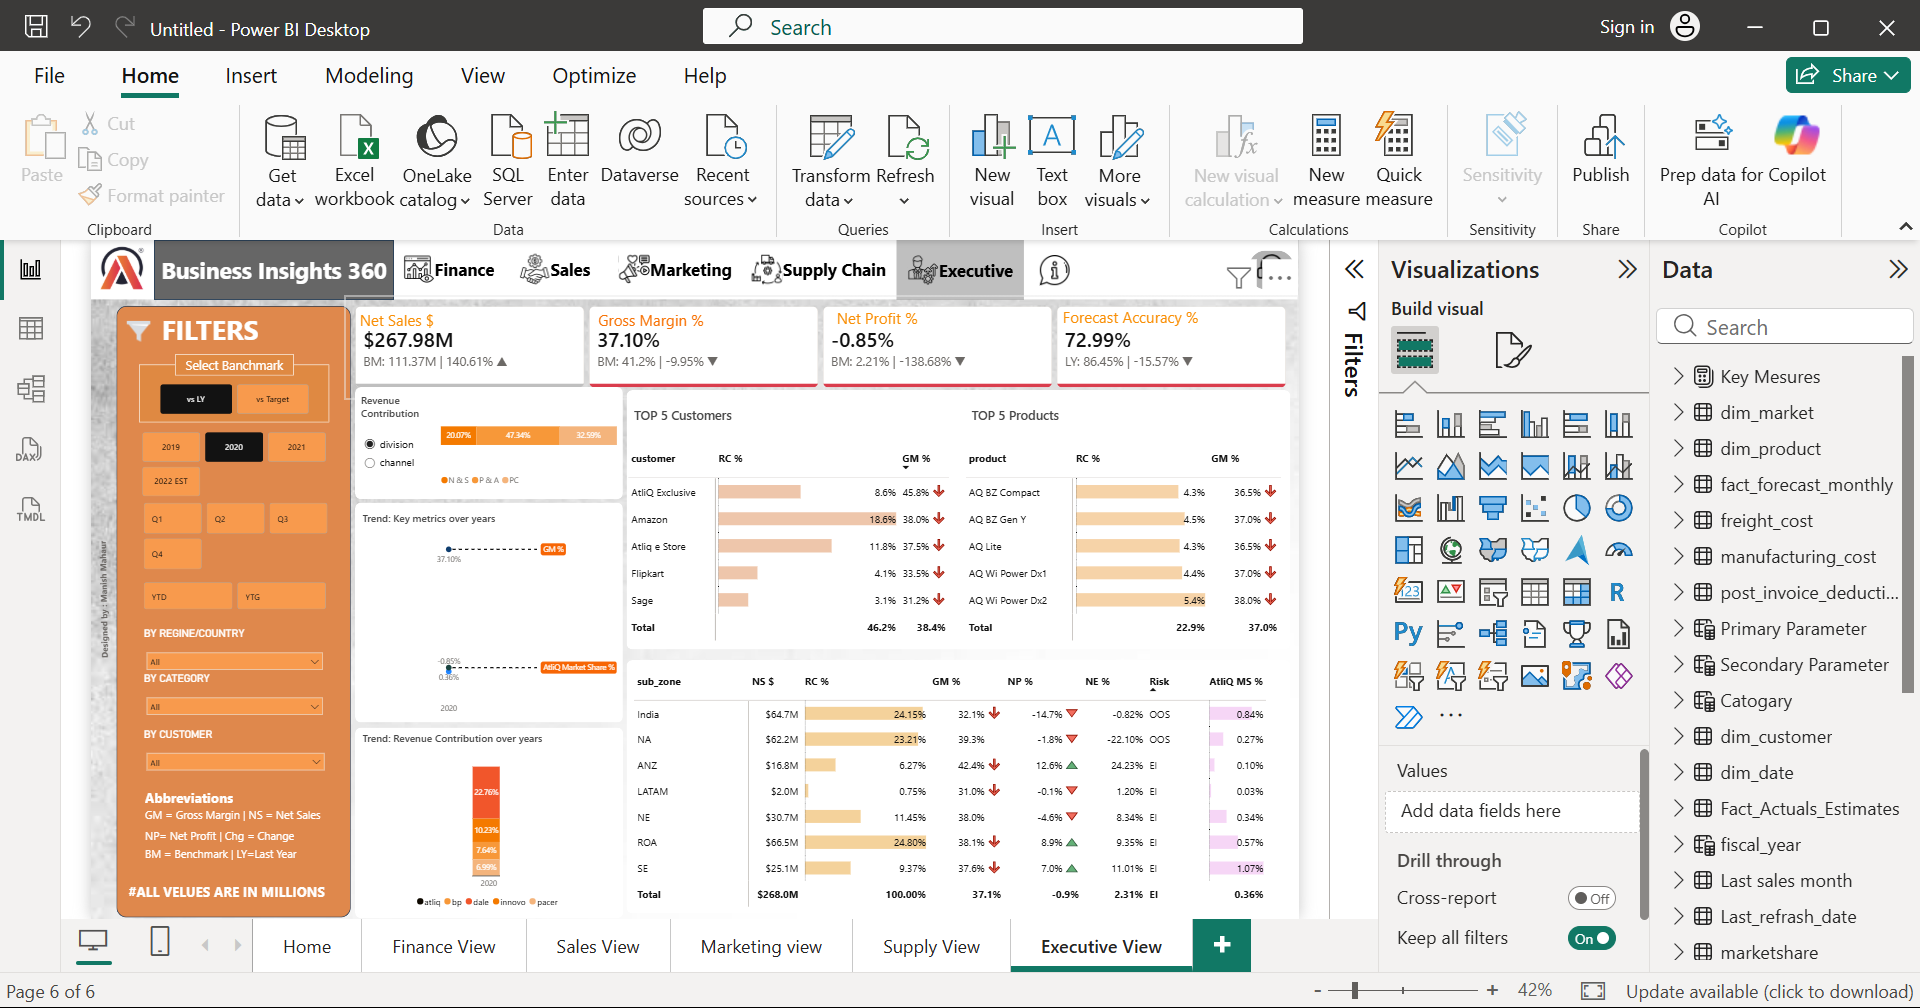

This screenshot's page, from the dashboard's own definition file:
{"tool":"powerbi","page":{"name":"Executive View ","canvas":[1920,1080],"ordinal":5},"visuals":[{"type":"shape","box":[0,0,1920,94.5],"z":0},{"type":"shape","box":[0.3,0,264,24],"z":1000},{"type":"shape","box":[10,10,237.5,33.8],"z":2000},{"type":"image","box":[0,9.5,100.2,69.2],"z":3000},{"type":"shape","box":[40,105,372.5,972.5],"z":4000},{"type":"actionButton","box":[0,426.3,39.8,289.5],"z":5000},{"type":"actionButton","box":[486.7,0,164.6,93.1],"z":6000},{"type":"actionButton","box":[651.4,0,171.8,93.1],"z":7000},{"type":"actionButton","box":[823.1,0,212.3,93.1],"z":8000},{"type":"actionButton","box":[1036.2,0,243.8,94.5],"z":9000},{"type":"actionButton","box":[1281.2,0,202.8,95.4],"z":10000},{"type":"actionButton","box":[1841.9,16.7,71.6,62],"z":11000},{"type":"image","box":[1507.9,23.9,50.1,47.7],"z":12000},{"type":"shape","box":[100.2,0,381.7,95.4],"z":13000},{"type":"advancedSlicerVisual","fields":{"Values":["fiscal_year.FY Desc"]},"box":[76.3,300.6,303,112.1],"z":14000},{"type":"advancedSlicerVisual","fields":{"Values":["dim_date.Quarter"]},"box":[78.2,412.2,302.4,117.1],"z":15000},{"type":"advancedSlicerVisual","fields":{"Values":["dim_date.YTD_YTG"]},"box":[78.2,539,300,53.7],"z":16000},{"type":"slicer","title":"BY REGINE/COUNTRY","fields":{"Values":[" dim_market.region"," dim_market.market"]},"box":[78.3,615,300,82.5],"z":17000},{"type":"slicer","title":"BY CATEGORY","fields":{"Values":[" dim_product.segment"," dim_product.category"," dim_product.product"]},"box":[78.3,687.5,300,87.5],"z":18000},{"type":"slicer","title":"BY CUSTOMER","fields":{"Values":["dim_customer.customer"]},"box":[78.3,775,302.5,80],"z":19000},{"type":"image","box":[44.2,118.4,60.5,50],"z":20000},{"type":"textbox","box":[106.7,106.7,192.1,78.9],"z":21000},{"type":"shape","box":[75.8,197.4,302.6,92.1],"z":22000},{"type":"shape","box":[133.7,181.4,189,34.2],"z":23000},{"type":"advancedSlicerVisual","fields":{"Values":["Set BM.Benchmark"]},"box":[104.7,223.7,247.4,57.9],"z":24000},{"type":"shape","box":[85.8,897.5,292.5,32.5],"z":25000},{"type":"shape","box":[85.8,865,285,40],"z":26000},{"type":"shape","box":[85.8,930,285,32.5],"z":27000},{"type":"shape","box":[85.8,962.5,285,30],"z":28000},{"type":"shape","box":[60.8,1017.5,340,40],"z":29000},{"type":"cardVisual","fields":{"Data":["Key Mesures.Net Sales $","Key Mesures.GM %","Key Mesures.Net Profit %","Key Mesures.Forecast Accuracy %"]},"box":[403.2,88.8,1516.8,163.2],"z":32000},{"type":"textbox","box":[422.4,105.6,201.6,43.2],"z":33000},{"type":"textbox","box":[1180.8,103.2,201.6,43.2],"z":34000},{"type":"textbox","box":[801.6,105.6,201.6,43.2],"z":35000},{"type":"textbox","box":[1533.6,100.8,278.4,45.6],"z":36000},{"type":"shape","box":[852,237.6,1056,412.8],"z":37000},{"type":"shape","box":[852,667.2,1056,403.2],"z":38000},{"type":"pivotTable","fields":{"Rows":["dim_customer.customer"],"Values":["Key Mesures.RC %","Key Mesures.GM %"]},"box":[849.6,319.2,525.6,331.2],"z":39000},{"type":"pivotTable","fields":{"Rows":[" dim_product.product"],"Values":["Key Mesures.RC %","Key Mesures.GM %"]},"box":[1387.2,319.2,520.8,331.2],"z":40000},{"type":"shape","box":[864,254.4,208.8,45.6],"z":40001},{"type":"shape","box":[1401.6,254.4,230.4,45.6],"z":40002},{"type":"pivotTable","fields":{"Rows":["Sub_Zone.sub_zone"],"Values":["Key Mesures.Net Sales $","Key Mesures.RC %","Key Mesures.GM %","Key Mesures.Net Profit %","Key Mesures.Net Error %","Key Mesures.Risk","Key Mesures.AtliQ Market Share %"]},"box":[859.2,674.4,1048.8,403.2],"z":40003},{"type":"shape","box":[420,775,426.7,303.3],"z":40004},{"type":"ribbonChart","fields":{"Category":["fiscal_year.FY Desc"],"Series":["marketshare.Menufacturer"],"Y":["Key Mesures.Market Share %"]},"box":[421.7,815,420,255],"z":40005},{"type":"shape","box":[431.7,775,305.6,31.6],"z":40006},{"type":"shape","box":[419,233.3,426.2,178.6],"z":40007},{"type":"slicer","fields":{"Values":["Param EXECUTIVE 02 : Division vs Channel.Param EXECUTIVE 02 : Division vs Channel"]},"box":[421.4,304.8,102.4,95.2],"z":40008},{"type":"shape","box":[428.6,233.3,111.9,61.9],"z":40009},{"type":"hundredPercentStackedBarChart","fields":{"Series":[" dim_product.division"],"Y":["Key Mesures.Net Sales $"]},"box":[550,242.9,290.5,157.1],"z":40010},{"type":"shape","box":[419,416.7,426.2,350],"z":40011},{"type":"shape","box":[431,426.2,246.2,31.2],"z":40012},{"type":"areaChart","fields":{"Category":["fiscal_year.FY Desc"],"Y":["Key Mesures.GM %","Key Mesures.Net Profit %","Key Mesures.AtliQ Market Share %"]},"box":[428.6,461.9,411.9,300],"z":40013}]}

Visuals, with their boxes on the page's 1920x1080 design canvas (x1, y1, x2, y2). These are canvas units, not pixel positions in the 1920x1008 screenshot, which may show the page scaled, cropped or inside an application window:
shape: select_region(0, 0, 1920, 94)
shape: select_region(0, 0, 264, 24)
shape: select_region(10, 10, 248, 44)
image: select_region(0, 10, 100, 79)
shape: select_region(40, 105, 412, 1078)
actionButton: select_region(0, 426, 40, 716)
actionButton: select_region(487, 0, 651, 93)
actionButton: select_region(651, 0, 823, 93)
actionButton: select_region(823, 0, 1035, 93)
actionButton: select_region(1036, 0, 1280, 94)
actionButton: select_region(1281, 0, 1484, 95)
actionButton: select_region(1842, 17, 1914, 79)
image: select_region(1508, 24, 1558, 72)
shape: select_region(100, 0, 482, 95)
advancedSlicerVisual - fiscal_year.FY Desc: select_region(76, 301, 379, 413)
advancedSlicerVisual - dim_date.Quarter: select_region(78, 412, 381, 529)
advancedSlicerVisual - dim_date.YTD_YTG: select_region(78, 539, 378, 593)
"BY REGINE/COUNTRY" slicer: select_region(78, 615, 378, 698)
"BY CATEGORY" slicer: select_region(78, 688, 378, 775)
"BY CUSTOMER" slicer: select_region(78, 775, 381, 855)
image: select_region(44, 118, 105, 168)
textbox: select_region(107, 107, 299, 186)
shape: select_region(76, 197, 378, 290)
shape: select_region(134, 181, 323, 216)
advancedSlicerVisual - Set BM.Benchmark: select_region(105, 224, 352, 282)
shape: select_region(86, 898, 378, 930)
shape: select_region(86, 865, 371, 905)
shape: select_region(86, 930, 371, 962)
shape: select_region(86, 962, 371, 992)
shape: select_region(61, 1018, 401, 1058)
cardVisual - Key Mesures.Net Sales $ x Key Mesures.GM %: select_region(403, 89, 1920, 252)
textbox: select_region(422, 106, 624, 149)
textbox: select_region(1181, 103, 1382, 146)
textbox: select_region(802, 106, 1003, 149)
textbox: select_region(1534, 101, 1812, 146)
shape: select_region(852, 238, 1908, 650)
shape: select_region(852, 667, 1908, 1070)
pivotTable - dim_customer.customer x Key Mesures.RC %: select_region(850, 319, 1375, 650)
pivotTable -  dim_product.product x Key Mesures.RC %: select_region(1387, 319, 1908, 650)
shape: select_region(864, 254, 1073, 300)
shape: select_region(1402, 254, 1632, 300)
pivotTable - Sub_Zone.sub_zone x Key Mesures.Net Sales $: select_region(859, 674, 1908, 1078)
shape: select_region(420, 775, 847, 1078)
ribbonChart - fiscal_year.FY Desc x marketshare.Menufacturer: select_region(422, 815, 842, 1070)
shape: select_region(432, 775, 737, 807)
shape: select_region(419, 233, 845, 412)
slicer - Param EXECUTIVE 02 : Division vs Channel.Param EXECUTIVE 02 : Division vs Channel: select_region(421, 305, 524, 400)
shape: select_region(429, 233, 540, 295)
hundredPercentStackedBarChart -  dim_product.division x Key Mesures.Net Sales $: select_region(550, 243, 840, 400)
shape: select_region(419, 417, 845, 767)
shape: select_region(431, 426, 677, 457)
areaChart - fiscal_year.FY Desc x Key Mesures.GM %: select_region(429, 462, 840, 762)
